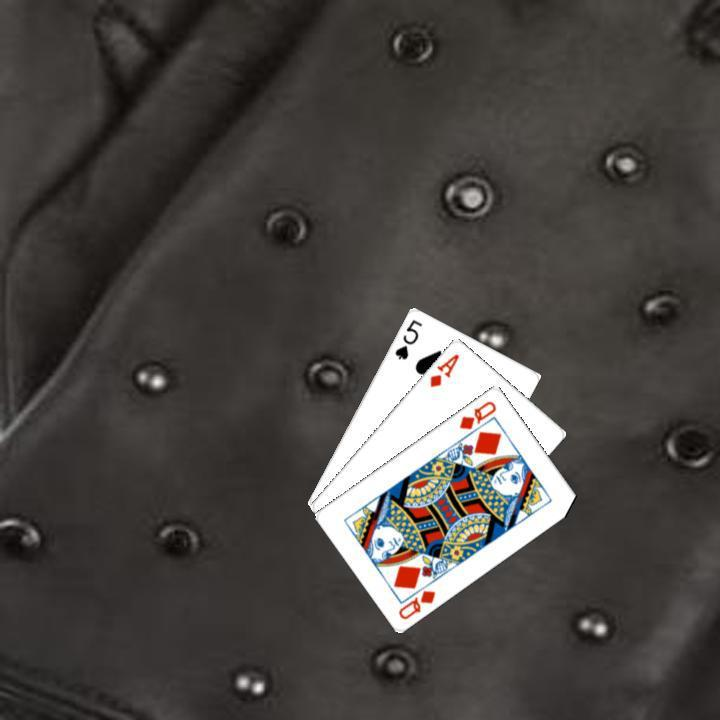5: (390, 314, 424, 361)
A: (425, 349, 461, 389)
Q: (394, 585, 438, 621), (455, 396, 498, 431)
